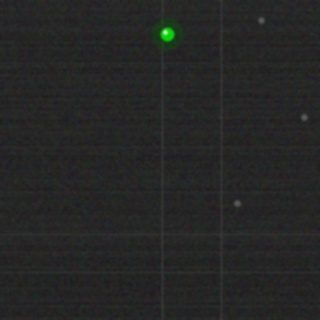green_normal: (158, 25, 176, 43)
